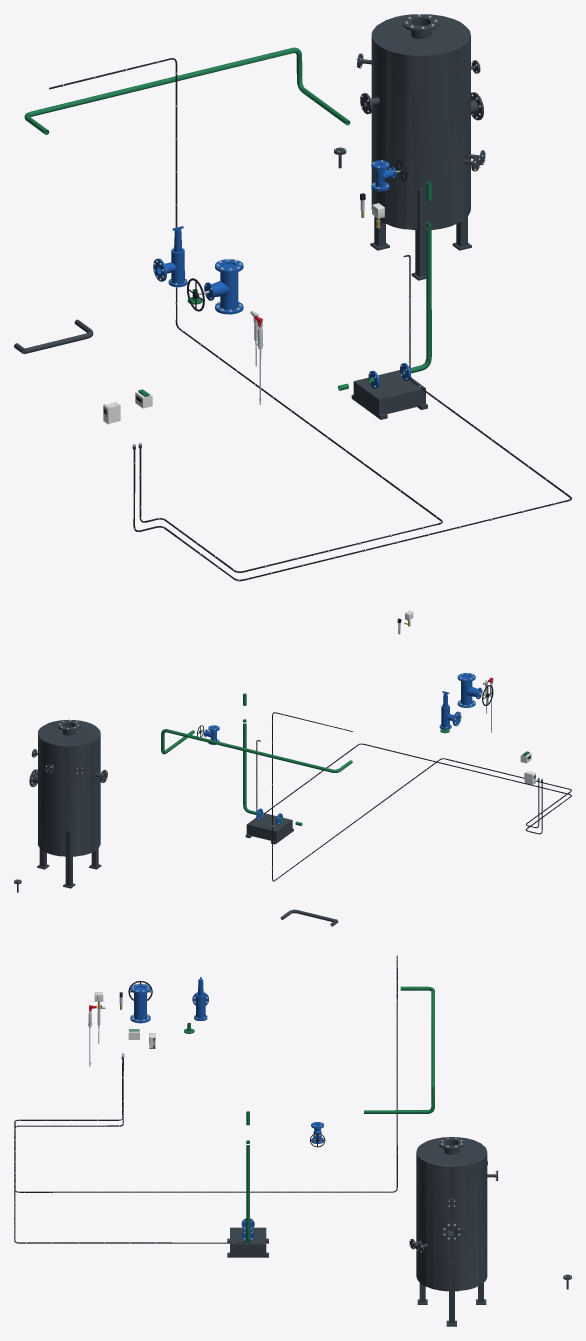
The model's file is s4000-2-hxJRU_Jn.glb.
3 renders of one model, top to bottom at view 1: azimuth 30°, elevation 25°; view 2: azimuth 150°, elevation 25°; view 3: azimuth 270°, elevation 25°, orthographic. The views are drawn at different scales.
Parts seen in each view (by area): view 1: separator_bdv60_5 / dark, mod_eco_drive_cable / black, to_direct / green, pump_branch_1 / dark, wiring_pump_1 / black, steam_manual / blue, pump_branch_1 / green, safety_1 / blue; view 2: separator_bdv60_5 / dark, mod_eco_drive_cable / black, to_direct / green, pump_branch_1 / dark, wiring_pump_1 / black, steam_manual / blue, pump_branch_1 / green, safety_1 / blue; view 3: separator_bdv60_5 / dark, mod_eco_drive_cable / black, pump_branch_1 / dark, to_direct / green, wiring_pump_1 / black, steam_manual / blue.
Boxes of the visible parts, left/top/right/bottom form: separator_bdv60_5 / dark: left=357, top=14, right=485, bottom=280; mod_eco_drive_cable / black: left=49, top=58, right=442, bottom=572; to_direct / green: left=24, top=47, right=350, bottom=134; pump_branch_1 / dark: left=351, top=370, right=427, bottom=419; wiring_pump_1 / black: left=133, top=255, right=571, bottom=581; steam_manual / blue: left=204, top=259, right=243, bottom=314; pump_branch_1 / green: left=338, top=181, right=431, bottom=390; safety_1 / blue: left=153, top=226, right=187, bottom=287; separator_bdv60_5 / dark: left=29, top=719, right=107, bottom=888; mod_eco_drive_cable / black: left=272, top=712, right=571, bottom=881; to_direct / green: left=161, top=729, right=352, bottom=772; pump_branch_1 / dark: left=245, top=813, right=293, bottom=844; wiring_pump_1 / black: left=256, top=740, right=571, bottom=834; steam_manual / blue: left=457, top=673, right=482, bottom=707; pump_branch_1 / green: left=243, top=693, right=302, bottom=825; safety_1 / blue: left=439, top=691, right=461, bottom=729; separator_bdv60_5 / dark: left=409, top=1137, right=497, bottom=1326; mod_eco_drive_cable / black: left=14, top=955, right=397, bottom=1192; pump_branch_1 / dark: left=227, top=1227, right=268, bottom=1257; to_direct / green: left=364, top=986, right=434, bottom=1113; wiring_pump_1 / black: left=14, top=1059, right=246, bottom=1243; steam_manual / blue: left=130, top=983, right=150, bottom=1023.
Size of the model in its own units: 5.19 by 2.57 by 6.03.
